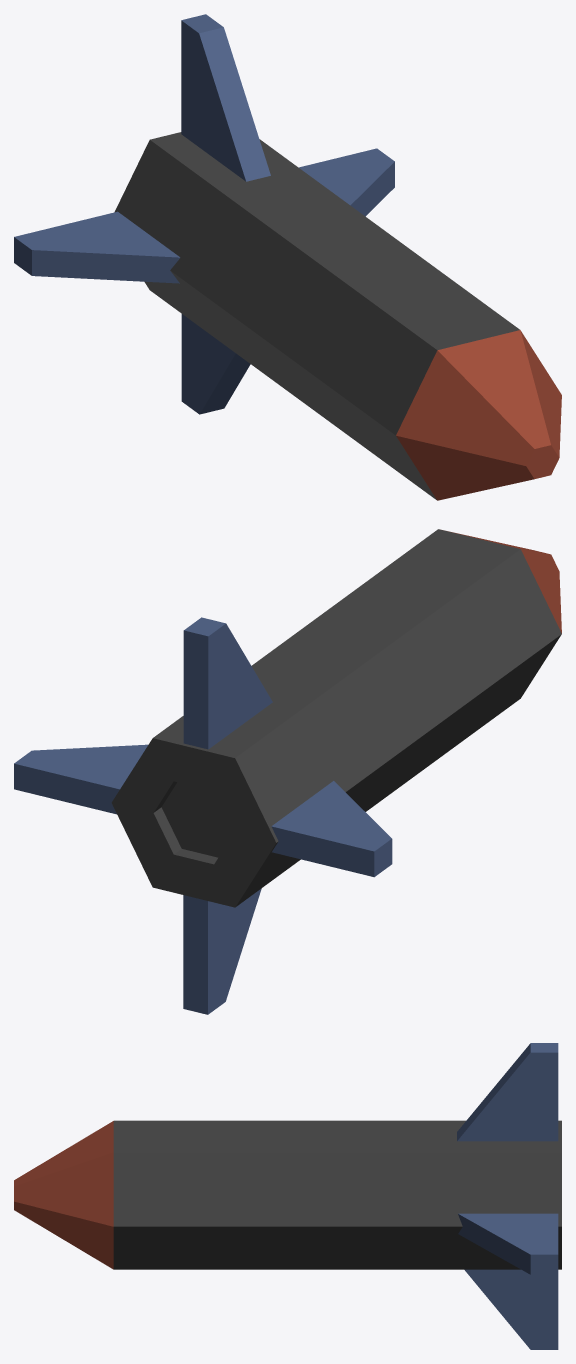
The model's file is Missile.fbx.
3 renders of one model, top to bottom at view 1: azimuth 30°, elevation 25°; view 2: azimuth 150°, elevation 25°; view 3: azimuth 270°, elevation 25°, orthographic. The views are drawn at different scales.
Parts seen in each view (by area): view 1: Cube; view 2: Cube; view 3: Cube.
Boxes of the visible parts, left/top/right/bottom form: Cube: left=14, top=14, right=561, bottom=500; Cube: left=14, top=529, right=561, bottom=1014; Cube: left=14, top=1043, right=561, bottom=1349.
Size of the model in its own units: 65.57 by 65.82 by 110.
